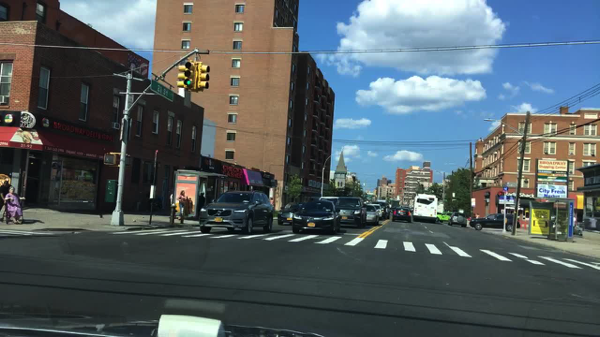bus: (412, 191, 439, 223)
car: (198, 191, 274, 235), (292, 200, 341, 236), (334, 196, 367, 228), (469, 214, 519, 232), (276, 203, 302, 226), (551, 216, 581, 235), (390, 206, 412, 222), (364, 204, 379, 226), (448, 212, 466, 229), (376, 201, 391, 219), (371, 204, 383, 219), (439, 212, 451, 221)
person: (4, 187, 23, 224), (1, 174, 11, 220), (177, 190, 188, 221), (197, 194, 206, 211), (476, 212, 479, 219), (472, 213, 475, 219)
traffic light: (183, 60, 196, 91), (198, 62, 209, 92), (177, 59, 184, 89), (103, 155, 118, 164), (124, 156, 132, 165)
traffic sign: (149, 78, 176, 103), (119, 118, 125, 142), (127, 118, 133, 142), (498, 191, 504, 198), (506, 192, 511, 200), (502, 184, 507, 191)
